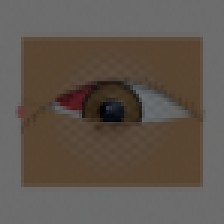hemorrhage_spot: (44, 63, 126, 129)
